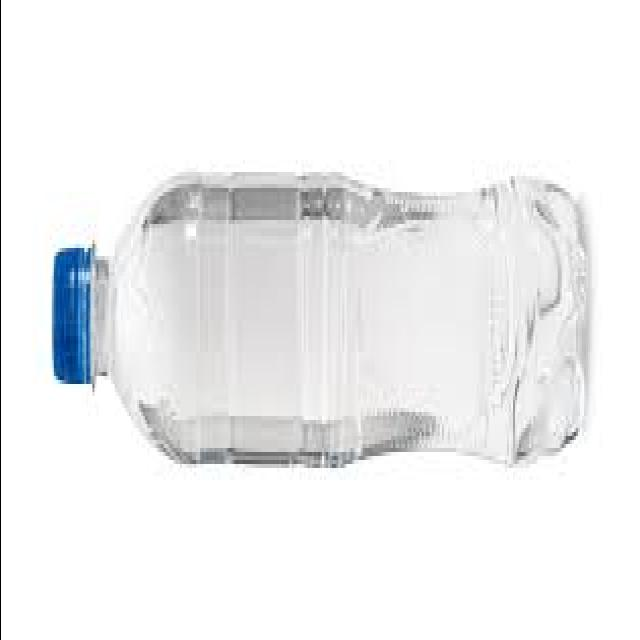plastic cup: (51, 177, 584, 468)
